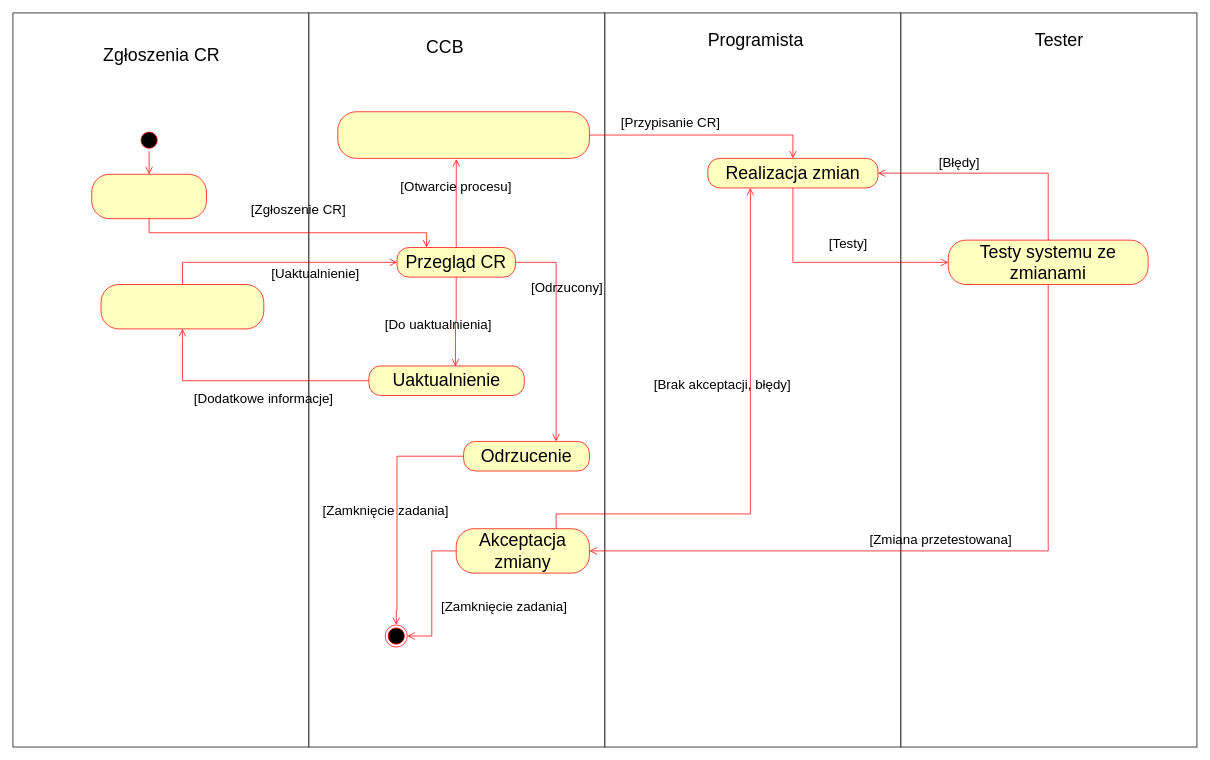
Some shapes in this 1210 by 760 pixel diagram are drawn without their labels. Here are the shapes that lost their labels. From the top down, the centre of each, then its label:
[463,134]: Przypisywanie programisty, harmonogram
[148,196]: Dostarczenie CR
[182,306]: Uaktualnienie CR
